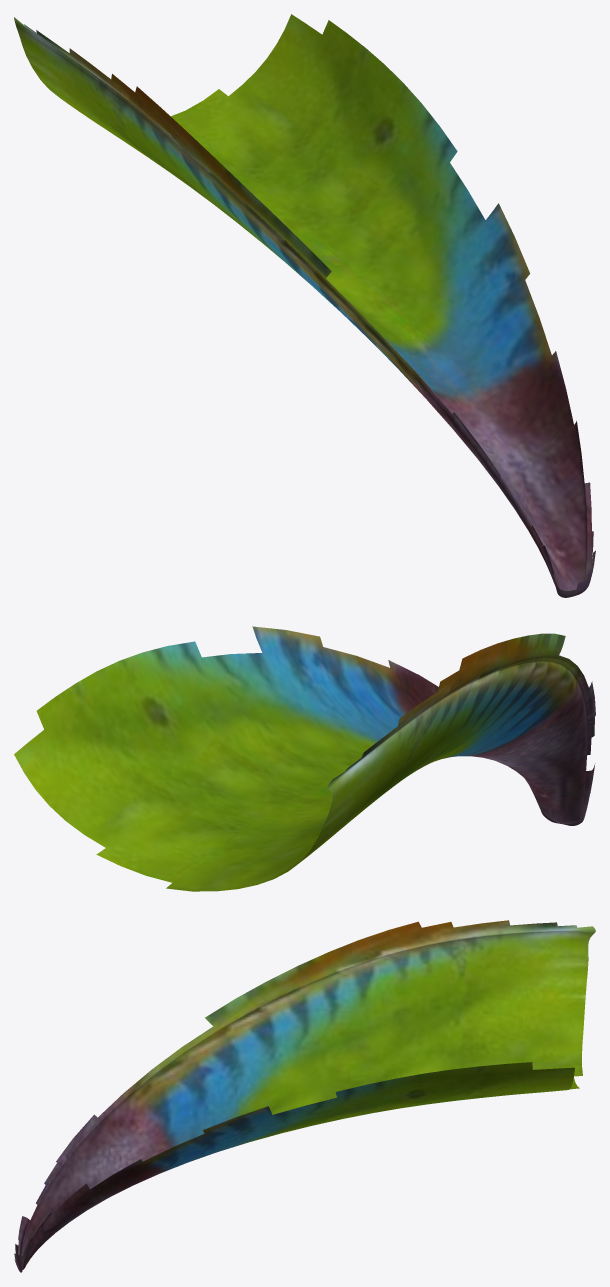
Rendered from tucanpicodown.obj.
3 views of the same model, one above another, from view 1: azimuth 30°, elevation 25°; view 2: azimuth 150°, elevation 25°; view 3: azimuth 270°, elevation 25° (orthographic). The views are drawn at different scales.
Visible parts, largest first — view 1: 12260_Bird_Toucan_v3_l2.004; view 2: 12260_Bird_Toucan_v3_l2.004; view 3: 12260_Bird_Toucan_v3_l2.004.
Boxes of the visible parts, x1,y1,x2,y2 form: 12260_Bird_Toucan_v3_l2.004: (14, 14, 595, 597); 12260_Bird_Toucan_v3_l2.004: (14, 626, 595, 891); 12260_Bird_Toucan_v3_l2.004: (14, 920, 595, 1272).
Bounding box in the file's own units: 0.6309 × 0.7818 × 1.47.
